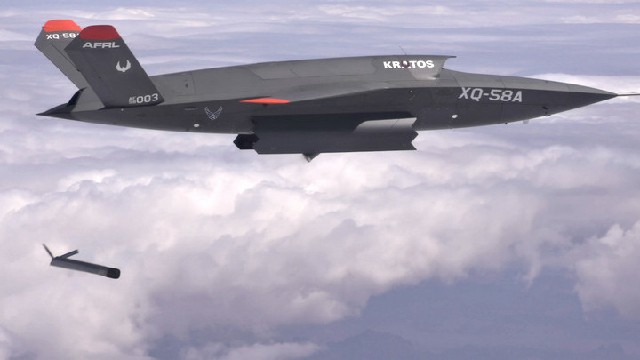maybay_khongnguoilai: (32, 23, 625, 166)
